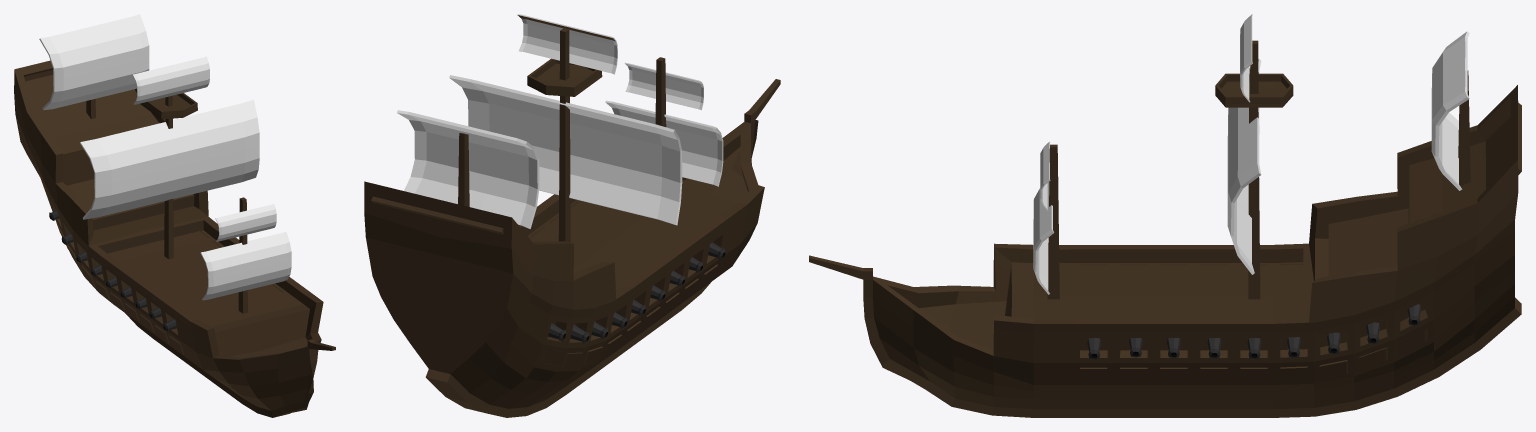
Rendered from ship.fbx.
3 views of the same model, side by side, from view 1: azimuth 30°, elevation 25°; view 2: azimuth 150°, elevation 25°; view 3: azimuth 270°, elevation 25° (orthographic). The views are drawn at different scales.
Parts seen in each view (by area): view 1: Cube; view 2: Cube; view 3: Cube.
Part boxes in pixels (bbox=[...]): Cube: bbox=[14, 14, 335, 417]; Cube: bbox=[364, 14, 780, 417]; Cube: bbox=[809, 14, 1521, 417].
Bounding box in the file's own units: 2985 × 4557 × 7873.
